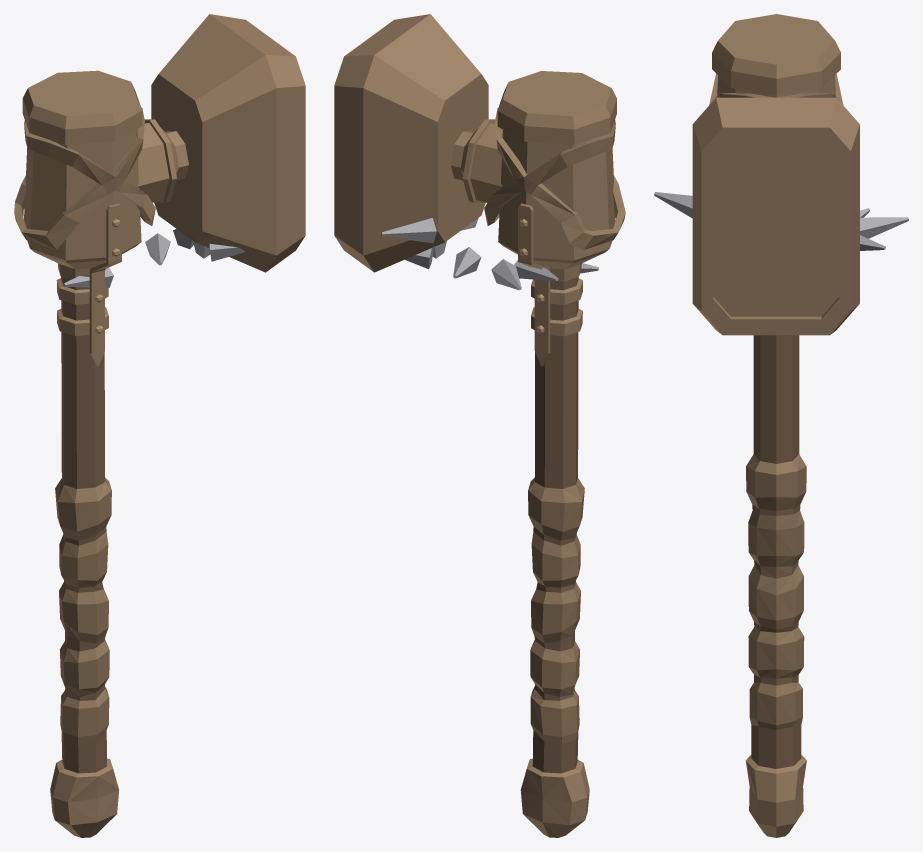
Rendered from garrote_clavos.glb.
The picture shows the model from 3 angles, left to right: view 1: azimuth 30°, elevation 25°; view 2: azimuth 150°, elevation 25°; view 3: azimuth 270°, elevation 25°; orthographic projection. The views are drawn at different scales.
Parts seen in each view (by area): view 1: garrote_clavos; view 2: garrote_clavos; view 3: garrote_clavos.
Boxes of the visible parts, x1=… form: garrote_clavos: x1=14, y1=14, x2=305, y2=837; garrote_clavos: x1=334, y1=14, x2=625, y2=837; garrote_clavos: x1=654, y1=14, x2=908, y2=837.
Bounding box in the file's own units: 1.49 × 4.33 × 1.23.
